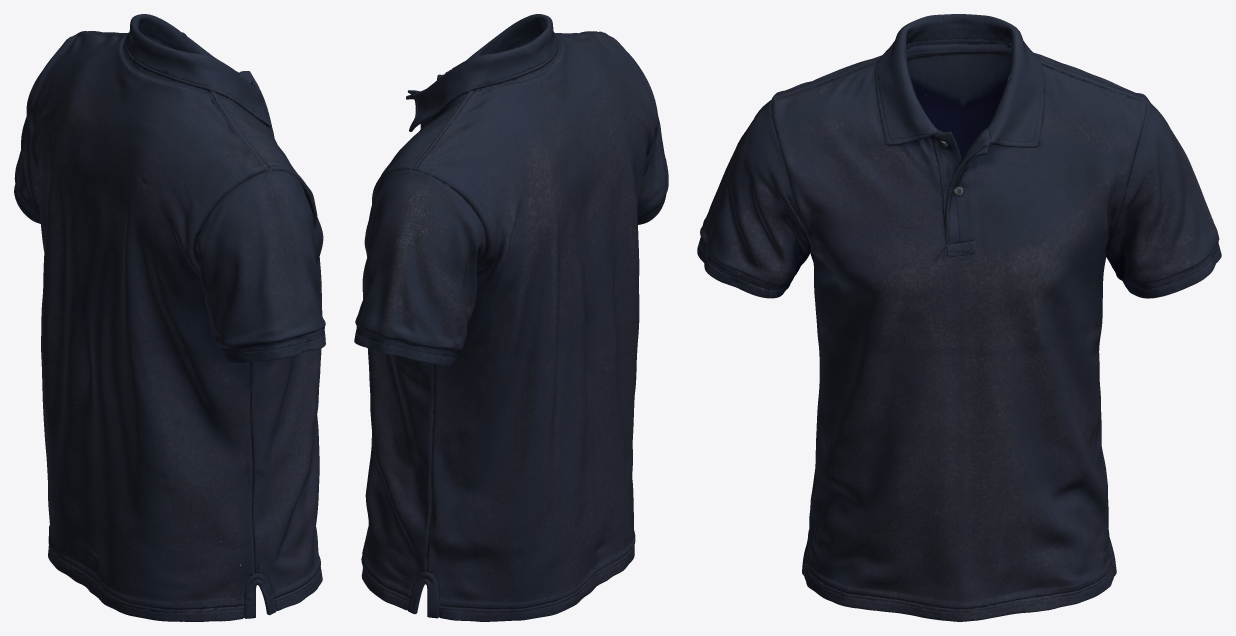
File: CAMISA-v1.glb
3 renders of one model, left to right at view 1: azimuth 30°, elevation 25°; view 2: azimuth 150°, elevation 25°; view 3: azimuth 270°, elevation 25°, orthographic.
Visible parts, largest first — view 1: tripo_node_0b18af8b-9e67-4847-b806-47a8701a1e7e; view 2: tripo_node_0b18af8b-9e67-4847-b806-47a8701a1e7e; view 3: tripo_node_0b18af8b-9e67-4847-b806-47a8701a1e7e.
Boxes of the visible parts, bbox=[...] form: tripo_node_0b18af8b-9e67-4847-b806-47a8701a1e7e: bbox=[14, 14, 325, 621]; tripo_node_0b18af8b-9e67-4847-b806-47a8701a1e7e: bbox=[354, 14, 668, 621]; tripo_node_0b18af8b-9e67-4847-b806-47a8701a1e7e: bbox=[697, 14, 1221, 621].
Size of the model in its own units: 0.4167 by 0.9783 by 0.8615.
Materials: 1 (1 with a texture image).
